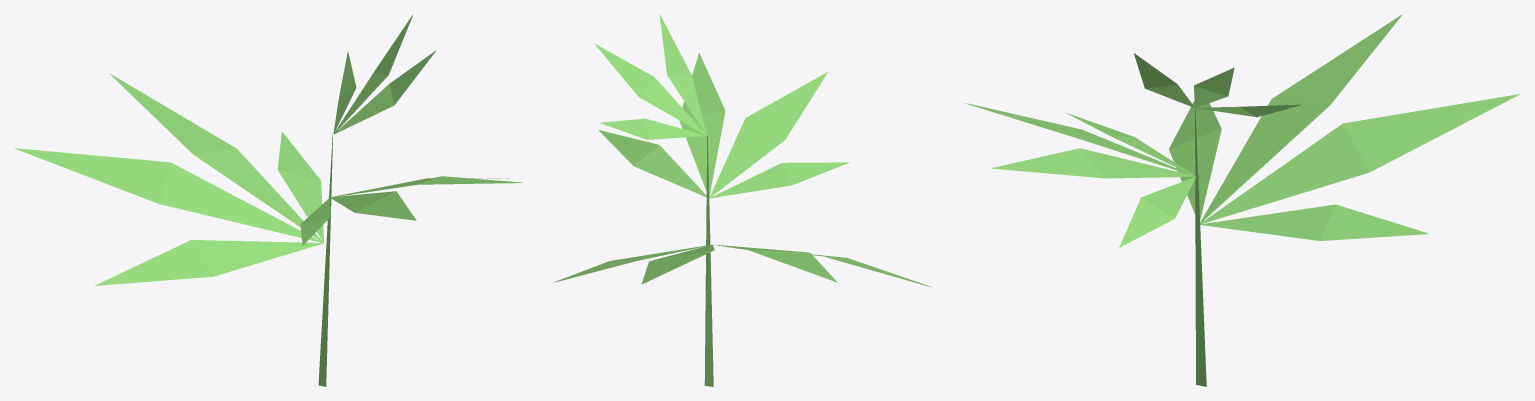
File: Plant_i_TwoS_09.fbx
3 renders of one model, left to right at view 1: azimuth 30°, elevation 25°; view 2: azimuth 150°, elevation 25°; view 3: azimuth 270°, elevation 25°, orthographic. The views are drawn at different scales.
Parts seen in each view (by area): view 1: Plant_i_TwoS_09; view 2: Plant_i_TwoS_09; view 3: Plant_i_TwoS_09.
Part boxes in pixels (left/top/right/bottom): Plant_i_TwoS_09: left=15, top=15, right=522, bottom=386; Plant_i_TwoS_09: left=553, top=15, right=932, bottom=386; Plant_i_TwoS_09: left=965, top=14, right=1519, bottom=386.
Size of the model in its own units: 20.15 by 17.04 by 22.83.
